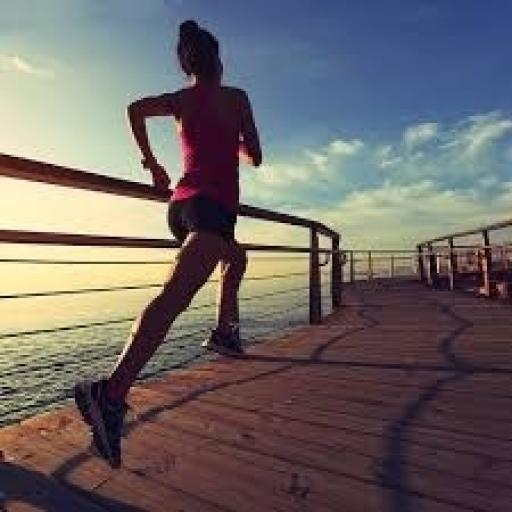running: (71, 16, 266, 471)
